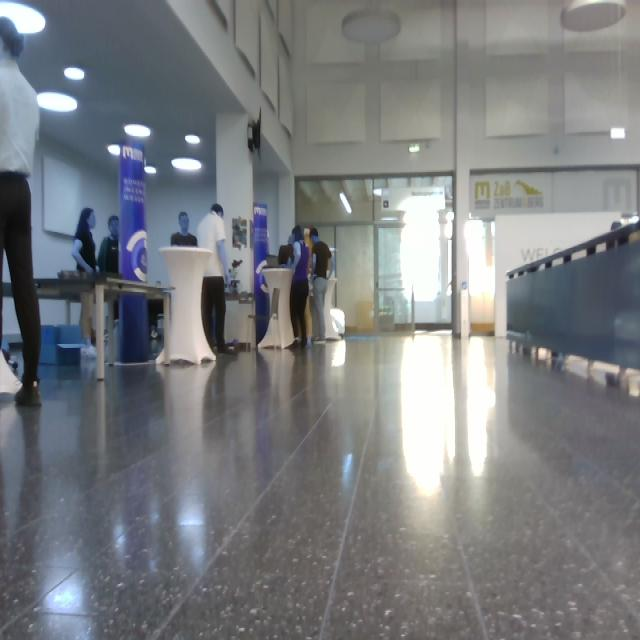door: (336, 224, 376, 333)
light bulb: (342, 6, 401, 45), (561, 1, 627, 33), (1, 1, 46, 36), (37, 92, 78, 113), (171, 157, 202, 172), (124, 124, 151, 138), (64, 66, 85, 81), (339, 192, 352, 214), (610, 128, 626, 140), (185, 134, 201, 145), (107, 144, 121, 156), (409, 142, 420, 153), (144, 165, 157, 174)
person: (1, 17, 42, 408), (197, 204, 237, 354), (72, 208, 100, 358), (288, 225, 312, 349), (309, 228, 333, 342), (171, 212, 198, 248)
pillar: (117, 140, 150, 364)
staircase: (505, 217, 640, 396)
tiled floor: (2, 329, 639, 638)
window: (295, 173, 455, 334)
